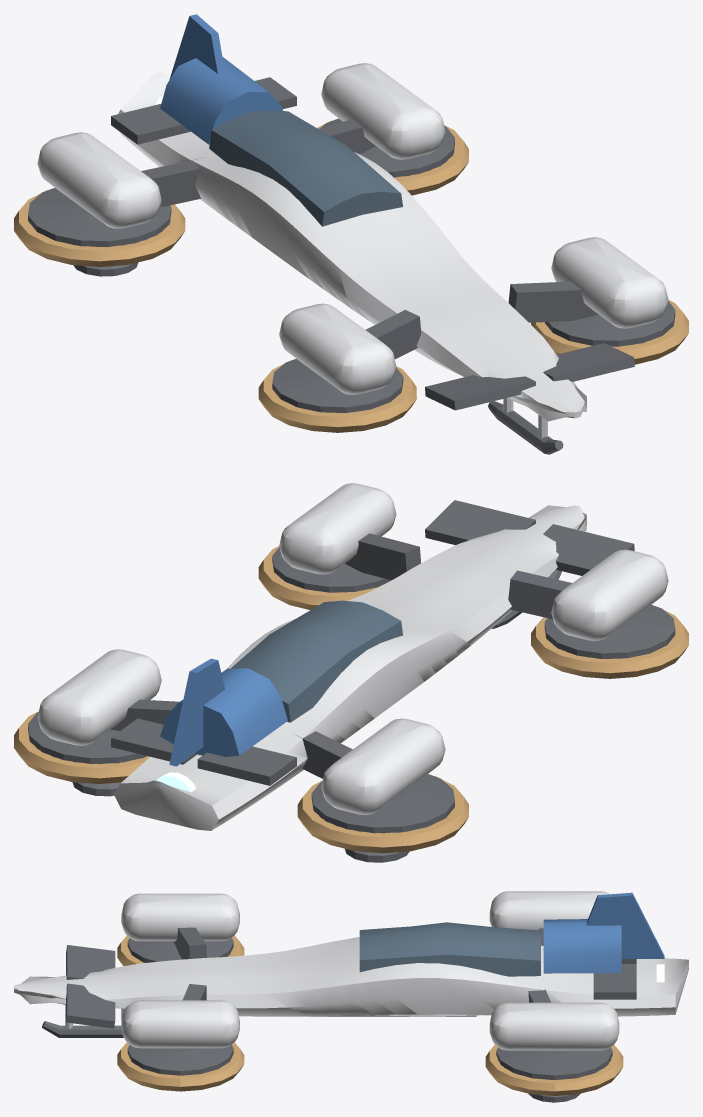
Rendered from hover-transit-and-antigrav-fleet-single-seat-racer-04f8c5b9__17074.glb.
3 views of the same model, one above another, from view 1: azimuth 30°, elevation 25°; view 2: azimuth 150°, elevation 25°; view 3: azimuth 270°, elevation 25° (orthographic). The views are drawn at different scales.
Parts seen in each view (by area): view 1: single-seat-racer; view 2: single-seat-racer; view 3: single-seat-racer.
Boxes of the visible parts, left/top/right/bottom form: single-seat-racer: left=14, top=14, right=688, bottom=454; single-seat-racer: left=14, top=483, right=688, bottom=862; single-seat-racer: left=14, top=891, right=688, bottom=1102.
Size of the model in its own units: 3 by 1.18 by 5.02.
